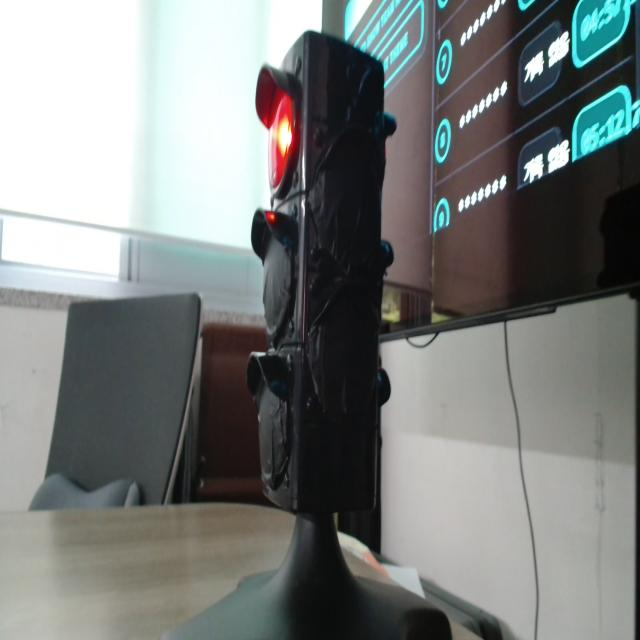red_light: (269, 92, 293, 189), (265, 211, 276, 223)
